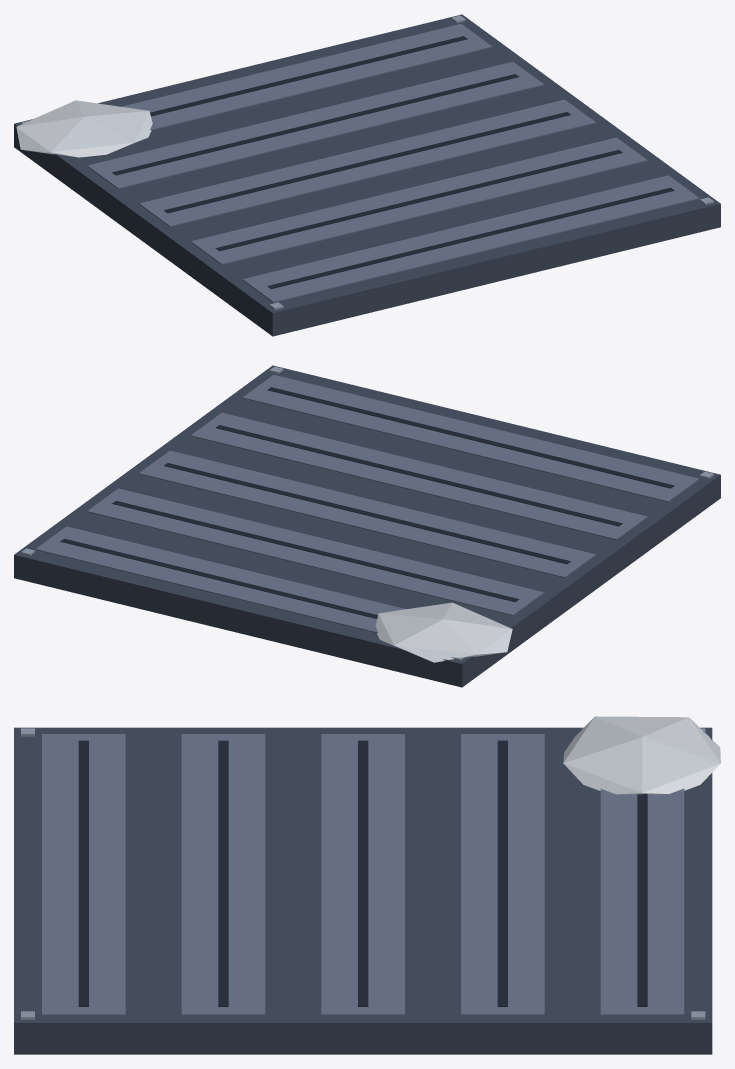
File: kit-arctic-floor.glb
3 views of the same model, one above another, from view 1: azimuth 30°, elevation 25°; view 2: azimuth 150°, elevation 25°; view 3: azimuth 270°, elevation 25° (orthographic). The views are drawn at different scales.
Parts seen in each view (by area): view 1: kit-arctic-floor; view 2: kit-arctic-floor; view 3: kit-arctic-floor.
Boxes of the visible parts, box(x1,y1,x2,y2) form: kit-arctic-floor: box(14, 14, 720, 336); kit-arctic-floor: box(14, 365, 720, 687); kit-arctic-floor: box(14, 716, 720, 1054).
Bounding box in the file's own units: 2.09 × 0.164 × 2.02.
